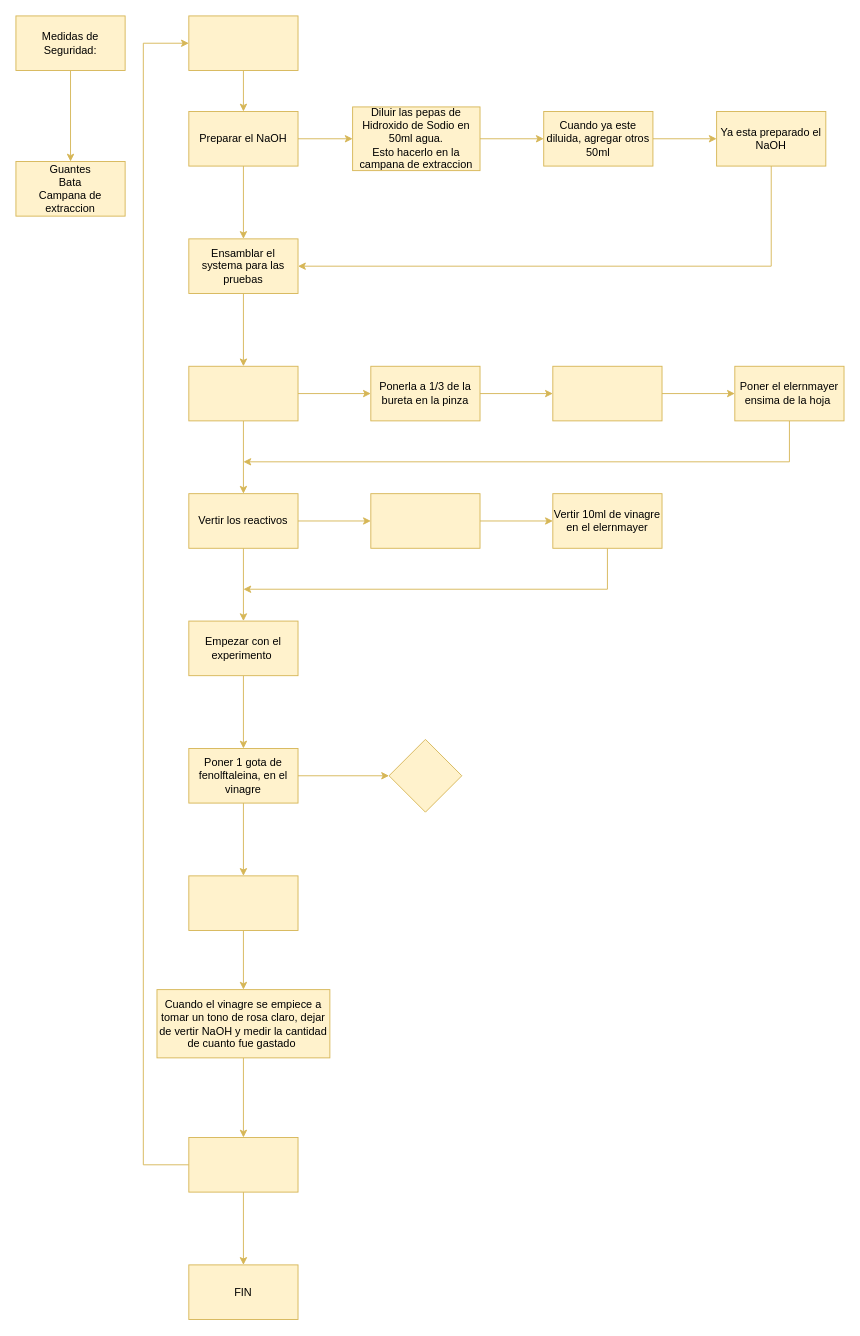
Image size: 860x1336. Some labels were removed from this diagram. The shapes that lost their labels are listed below. From the top down, each one's centre as x and y in pixels, then its label:
At point (243, 43): "Metodo".
At point (243, 393): "Poner la bureta en la pinza universal".
At point (607, 393): "Poner debajo una hoja blanca para ver mejor el color de la reaccion".
At point (425, 520): "Poner el NaOH en la bureta hasta llegar al 0 en su medida".
At point (425, 775): "SOLO PONER 1 GOTA".
At point (243, 902): "Empezar a vertir el NaOH en el vinagre de forma controlada (gota a gota)".
At point (243, 1164): "Repetir 4 veces por cada marca de vinagre".
